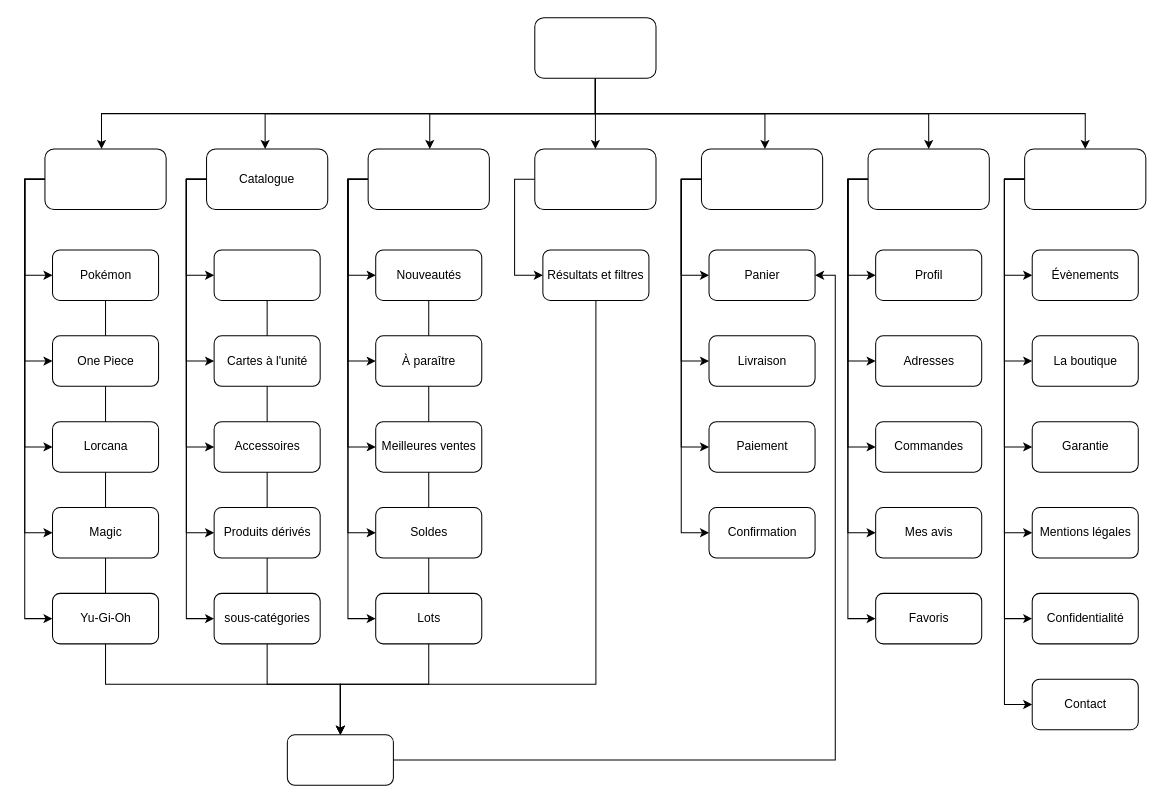
Image size: 1164x803. Some labels were removed from this diagram. Here are the shapes that lost their labels. From the top down, the box of each, then its label:
(534, 17, 656, 78): Accueil
(44, 148, 166, 210): Univers/licence
(367, 148, 489, 210): Regroupements
(534, 148, 656, 210): Recherche
(700, 148, 823, 210): Commande
(867, 148, 989, 210): Mon compte
(1024, 148, 1146, 210): Informations
(213, 249, 320, 300): Produits scellés
(286, 734, 393, 785): Fiche produit
